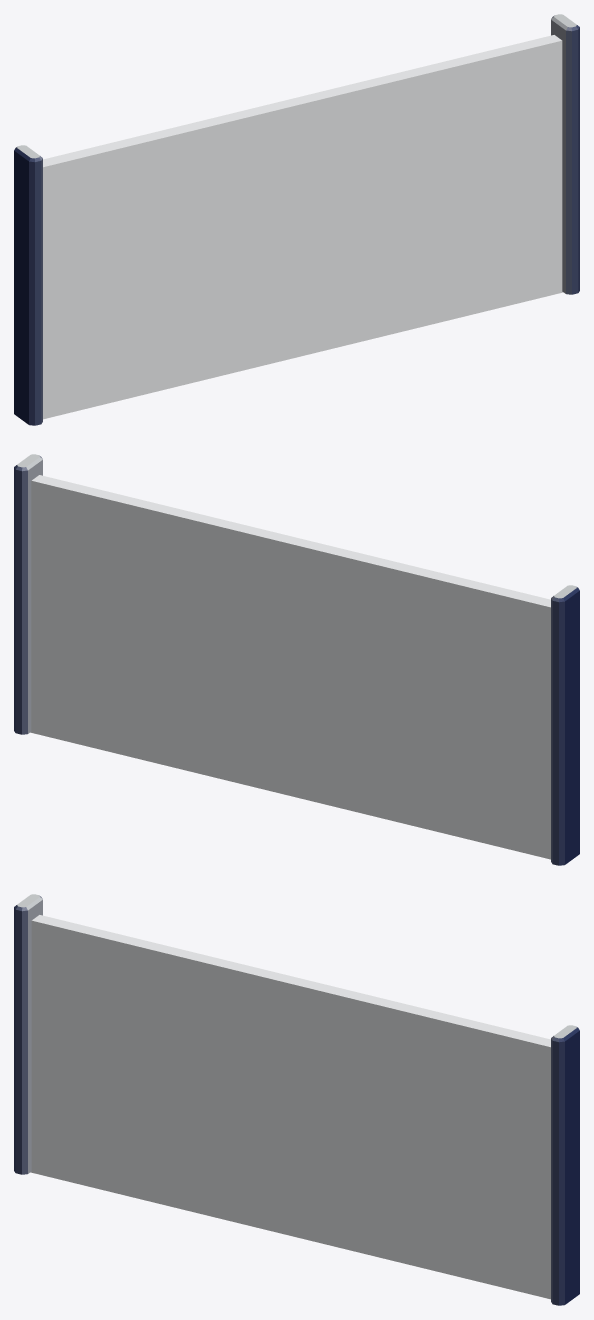
The model's file is makethemless_gate.fbx.
3 renders of one model, top to bottom at view 1: azimuth 30°, elevation 25°; view 2: azimuth 150°, elevation 25°; view 3: azimuth 330°, elevation 25°, orthographic.
Parts seen in each view (by area): view 1: makethemless_gateeffect.01, makethemless_gateholder; view 2: makethemless_gateeffect.01, makethemless_gateholder; view 3: makethemless_gateeffect.01, makethemless_gateholder.
Part boxes in pixels (<box>): makethemless_gateeffect.01: <box>43,35,563,419</box>; makethemless_gateholder: <box>14,14,579,425</box>; makethemless_gateeffect.01: <box>30,475,550,859</box>; makethemless_gateholder: <box>14,454,579,865</box>; makethemless_gateeffect.01: <box>30,915,550,1299</box>; makethemless_gateholder: <box>14,894,579,1305</box>.
Size of the model in its own units: 20.28 by 9.4 by 1.24.
